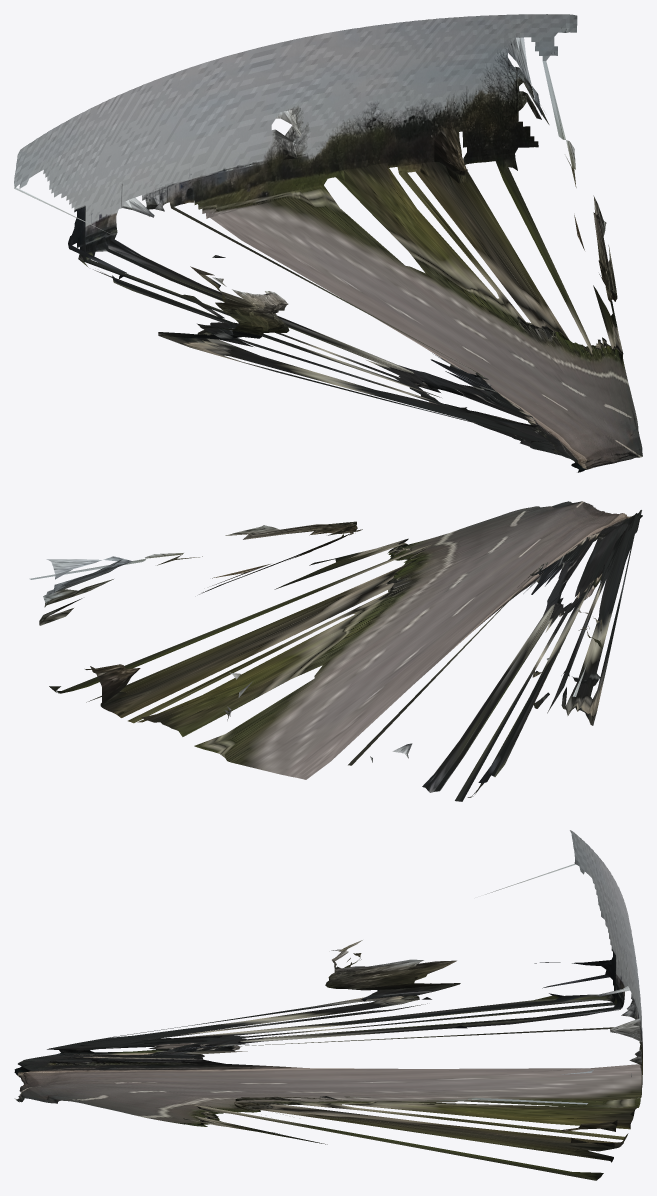
The picture shows the model from 3 angles, top to bottom: view 1: azimuth 30°, elevation 25°; view 2: azimuth 150°, elevation 25°; view 3: azimuth 270°, elevation 25°; orthographic projection. The views are drawn at different scales.
Visible parts, largest first — view 1: defaultobject; view 2: defaultobject; view 3: defaultobject.
Boxes of the visible parts, x1,y1,x2,y2 form: defaultobject: (14,14,642,472); defaultobject: (29,501,642,801); defaultobject: (14,830,642,1180).
Bounding box in the file's own units: 40.78 × 11.75 × 44.58.
Materials: 1 (1 with a texture image).
